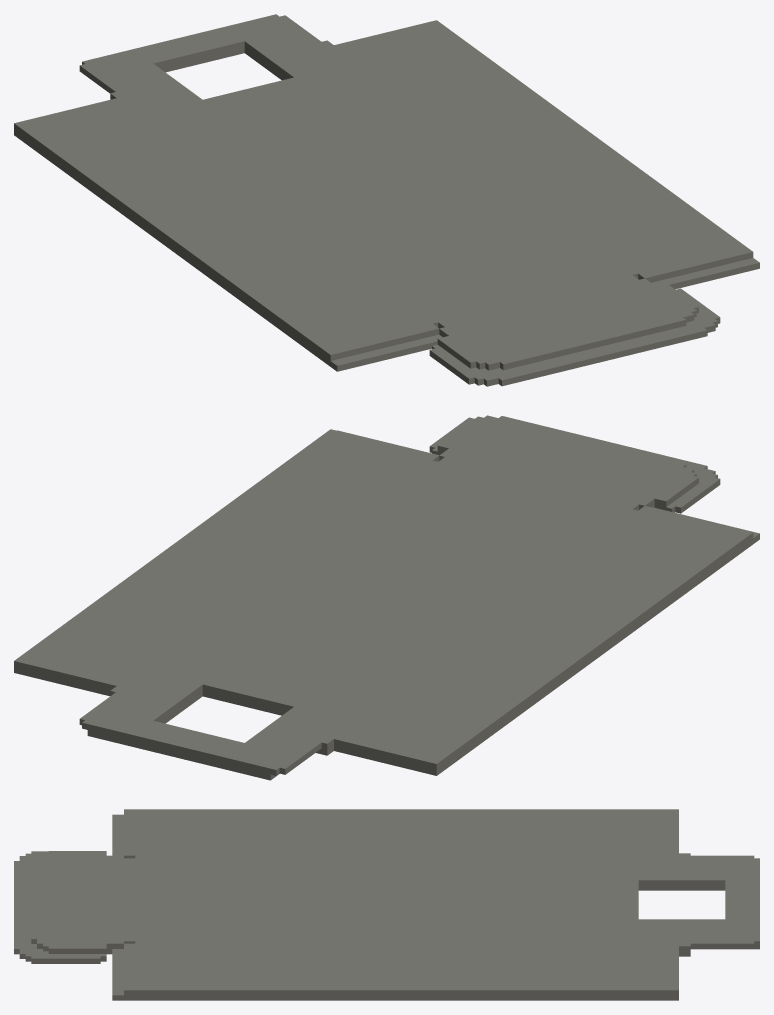
The model's file is church-76-ch_floortrapdoor.obj.
3 views of the same model, one above another, from view 1: azimuth 30°, elevation 25°; view 2: azimuth 150°, elevation 25°; view 3: azimuth 270°, elevation 25° (orthographic). The views are drawn at different scales.
Parts seen in each view (by area): view 1: ch_floortrapdoor; view 2: ch_floortrapdoor; view 3: ch_floortrapdoor.
Part boxes in pixels (bbox=[...]): ch_floortrapdoor: bbox=[14, 14, 759, 386]; ch_floortrapdoor: bbox=[14, 415, 759, 780]; ch_floortrapdoor: bbox=[14, 809, 759, 1000].
Size of the model in its own units: 7.4 by 0.2 by 12.9.
1 material, 1 textured.
